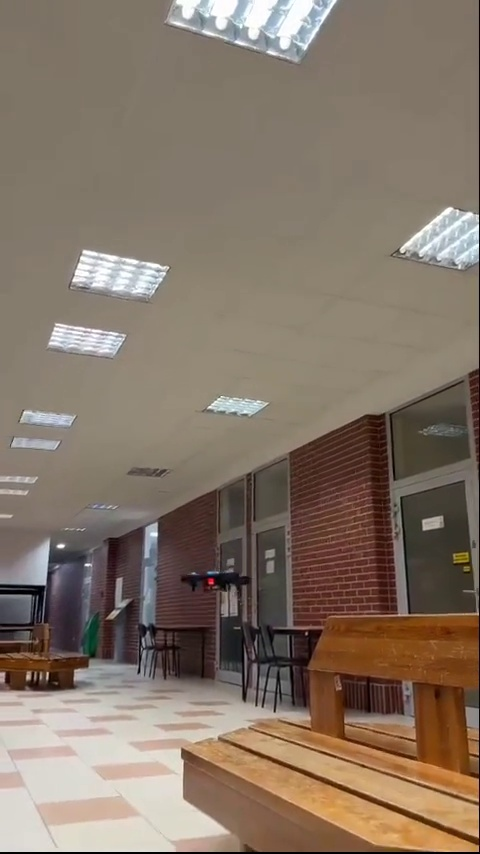drone: (180, 568, 252, 602)
